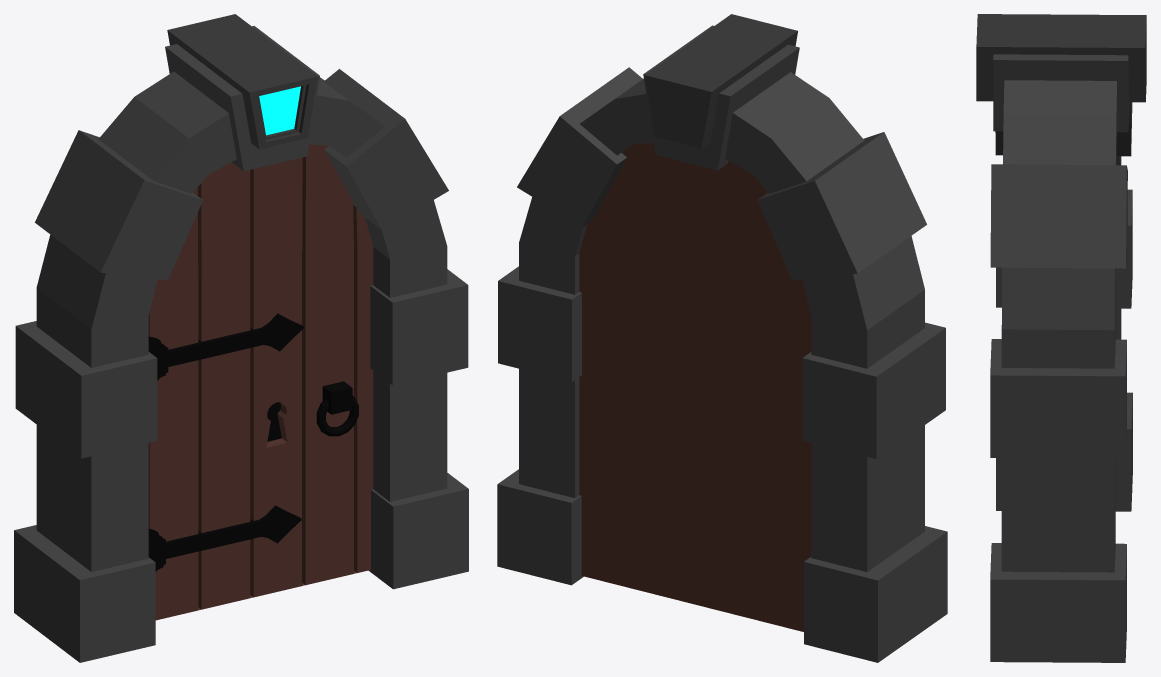
The model's file is low_poly_dungeon_door.glb.
3 views of the same model, side by side, from view 1: azimuth 30°, elevation 25°; view 2: azimuth 150°, elevation 25°; view 3: azimuth 270°, elevation 25° (orthographic).
Visible parts, largest first — view 1: Object_6, Object_5, Object_3, Object_7, Object_4; view 2: Object_6, Object_5, Object_3; view 3: Object_6, Object_3.
Part boxes in pixels (x1,y1,x2,y2): Object_6: (14,26,468,662); Object_5: (148,144,373,620); Object_3: (167,14,317,149); Object_7: (148,313,358,571); Object_4: (259,86,300,135); Object_6: (497,25,947,662); Object_5: (579,143,811,631); Object_3: (645,14,797,148); Object_6: (990,54,1132,662); Object_3: (976,14,1146,102).
Bounding box in the file's own units: 7.09 × 9.42 × 2.71.
